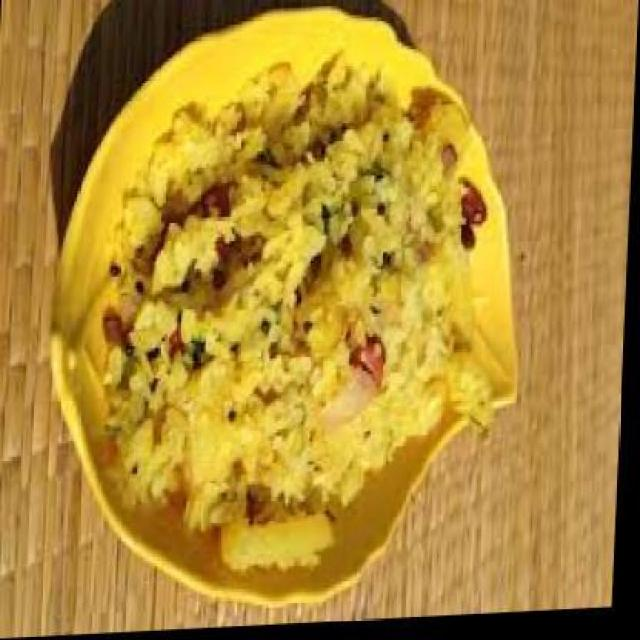poha: (96, 49, 510, 583)
